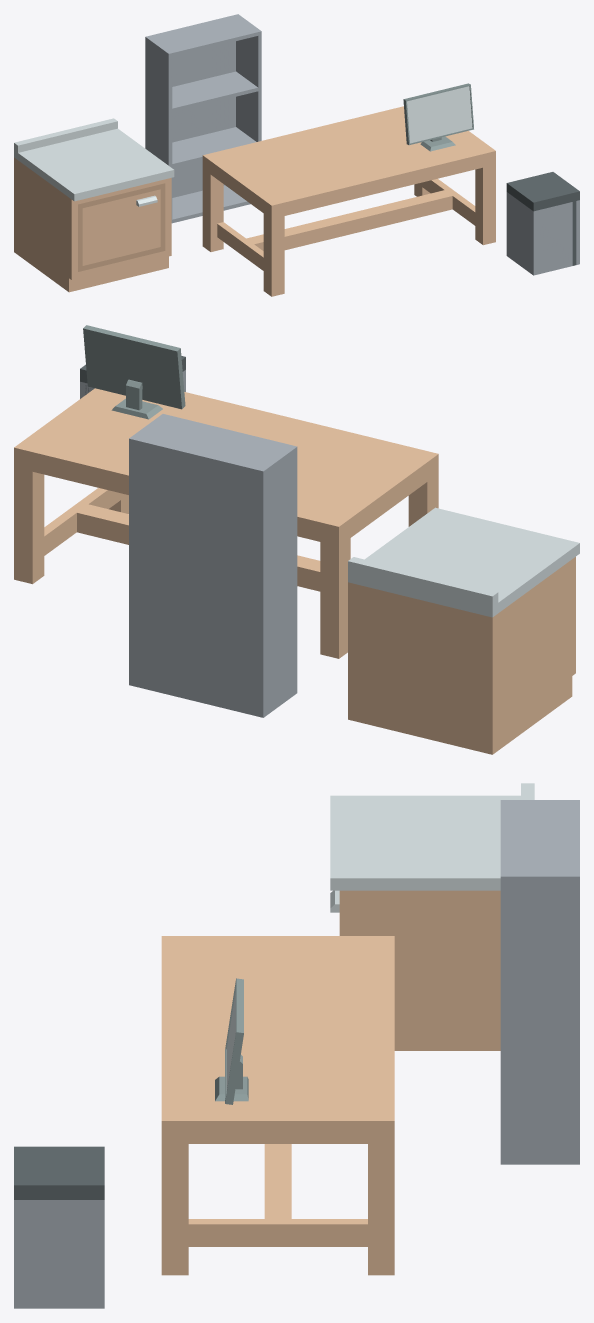
3 renders of one model, top to bottom at view 1: azimuth 30°, elevation 25°; view 2: azimuth 150°, elevation 25°; view 3: azimuth 270°, elevation 25°, orthographic. The views are drawn at different scales.
Parts seen in each view (by area): view 1: table_green__table(Clone), cabinet_blue__kitchenCabinet(Clone), cabinet_blue__door, shelf_orange__shelf_orange back, bin_gray__bin_gray shell, monitor_gray__computerScreen(Clone), shelf_orange__shelf_orange side_l, shelf_orange__shelf_orange side_r, shelf_orange__shelf_orange board3, shelf_orange__shelf_orange board2, bin_gray__bin_gray lid, shelf_orange__shelf_orange board1 (+1 smaller); view 2: cabinet_blue__kitchenCabinet(Clone), table_green__table(Clone), shelf_orange__shelf_orange back, shelf_orange__shelf_orange side_l, monitor_gray__computerScreen(Clone), shelf_orange__shelf_orange board3, shelf_orange__shelf_orange side_r; view 3: table_green__table(Clone), cabinet_blue__kitchenCabinet(Clone), shelf_orange__shelf_orange side_r, bin_gray__bin_gray shell, shelf_orange__shelf_orange board3, bin_gray__bin_gray lid, monitor_gray__computerScreen(Clone).
Part boxes in pixels (x1,y1,x2,y2): table_green__table(Clone): (202,106,495,296); cabinet_blue__kitchenCabinet(Clone): (14,118,174,292); cabinet_blue__door: (78,183,165,271); shelf_orange__shelf_orange back: (149,15,235,197); bin_gray__bin_gray shell: (506,192,579,275); monitor_gray__computerScreen(Clone): (403,83,473,151); shelf_orange__shelf_orange side_l: (145,36,172,222); shelf_orange__shelf_orange side_r: (235,14,261,141); shelf_orange__shelf_orange board3: (150,16,258,56); shelf_orange__shelf_orange board2: (172,71,258,111); bin_gray__bin_gray lid: (506,172,579,211); shelf_orange__shelf_orange board1: (172,127,256,167); cabinet_blue__kitchenCabinet(Clone): (348,507,579,754); table_green__table(Clone): (14,388,438,658); shelf_orange__shelf_orange back: (134,438,259,716); shelf_orange__shelf_orange side_l: (258,445,297,717); monitor_gray__computerScreen(Clone): (83,325,185,419); shelf_orange__shelf_orange board3: (136,415,291,468); shelf_orange__shelf_orange side_r: (129,414,167,686); table_green__table(Clone): (161,936,394,1275); cabinet_blue__kitchenCabinet(Clone): (330,783,534,1050); shelf_orange__shelf_orange side_r: (500,874,579,1164); bin_gray__bin_gray shell: (14,1200,104,1308); shelf_orange__shelf_orange board3: (500,803,575,873); bin_gray__bin_gray lid: (14,1146,104,1199); monitor_gray__computerScreen(Clone): (215,978,248,1104).
Size of the model in its own units: 3.55 by 1.4 by 2.49.
